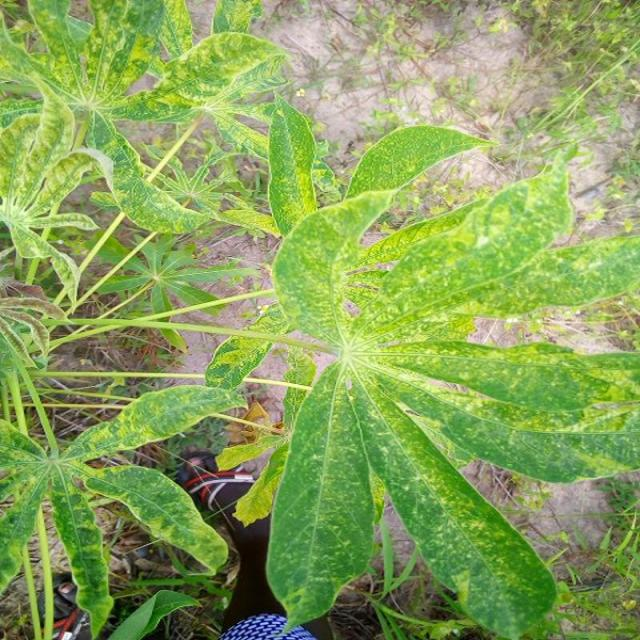cassava leaf: (250, 133, 638, 637)
